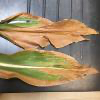Corn leaf blight: (0, 47, 99, 88), (0, 10, 99, 49)
